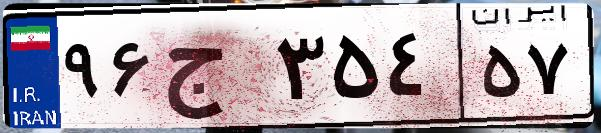3: (270, 28, 330, 110)
4: (385, 28, 445, 110)
5: (330, 28, 385, 110), (475, 38, 525, 113)
6: (110, 28, 158, 98)
7: (525, 38, 570, 115)
9: (57, 26, 110, 100)
ج: (158, 20, 270, 120)
